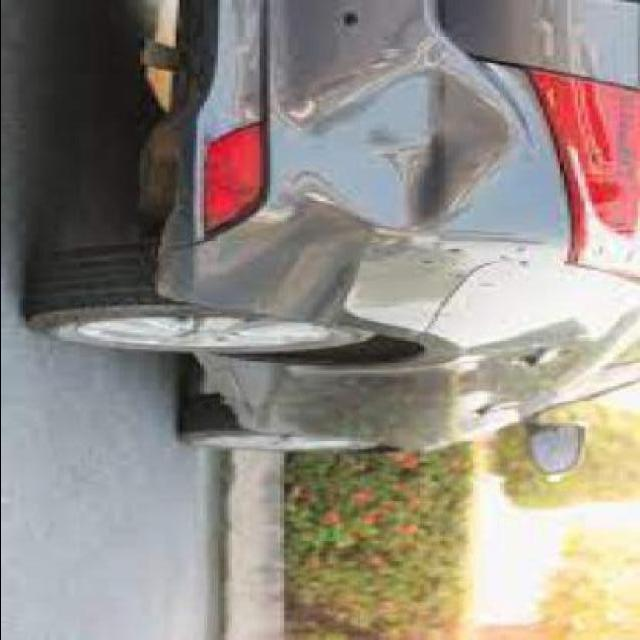rear-bumper-dent: (287, 45, 529, 243)
